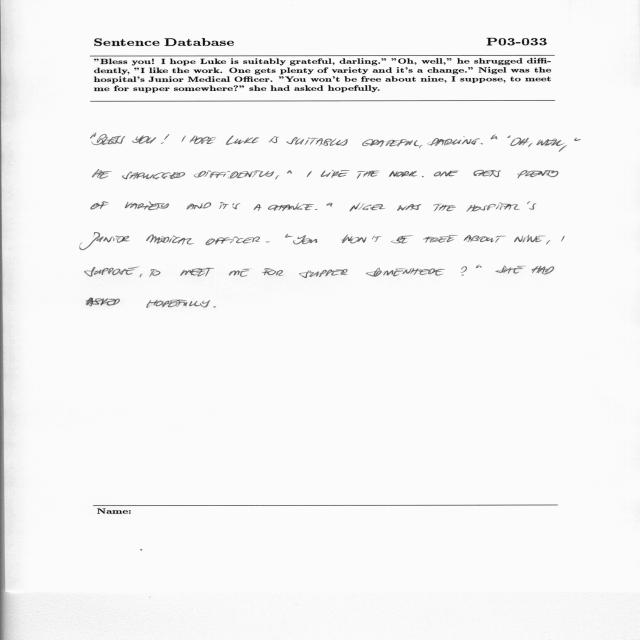word: (80, 233, 130, 251), (467, 201, 537, 212), (366, 268, 445, 277), (194, 171, 274, 179), (147, 299, 211, 308), (286, 137, 348, 146), (85, 267, 139, 277), (427, 136, 480, 146), (146, 234, 194, 245), (122, 172, 185, 180), (362, 139, 419, 147), (299, 269, 348, 278), (205, 237, 260, 245), (536, 139, 567, 152), (125, 202, 169, 211), (92, 134, 126, 145), (268, 203, 314, 211), (341, 235, 381, 244), (464, 235, 506, 243), (226, 135, 259, 145), (518, 170, 559, 178), (180, 268, 214, 277), (350, 203, 386, 211), (423, 235, 458, 243), (87, 298, 120, 306), (293, 235, 318, 245), (495, 266, 526, 274), (321, 170, 350, 178), (514, 235, 546, 242), (132, 135, 156, 144), (190, 136, 217, 144), (474, 170, 502, 177), (357, 171, 379, 179), (391, 236, 413, 244), (229, 269, 251, 277), (262, 268, 284, 276), (532, 266, 554, 274), (187, 203, 212, 210), (93, 170, 112, 179), (389, 171, 417, 177), (397, 204, 421, 211), (433, 204, 456, 211), (510, 138, 529, 146), (434, 171, 459, 177), (91, 202, 109, 210), (150, 269, 161, 277), (161, 134, 169, 144), (269, 137, 279, 144), (219, 202, 229, 209), (461, 266, 467, 276), (254, 204, 262, 211), (232, 204, 240, 210), (491, 135, 498, 140), (285, 234, 293, 238), (91, 133, 96, 139), (307, 171, 312, 177), (182, 136, 186, 142), (327, 203, 333, 207), (561, 236, 565, 242), (574, 138, 581, 141), (528, 143, 533, 147), (275, 175, 279, 180), (287, 170, 292, 174), (547, 240, 551, 245), (476, 265, 482, 268), (507, 135, 511, 138), (140, 274, 143, 278), (419, 145, 422, 148), (266, 241, 270, 243), (214, 306, 216, 308), (315, 209, 318, 210), (481, 143, 483, 144), (422, 176, 424, 177), (564, 143, 565, 144)
